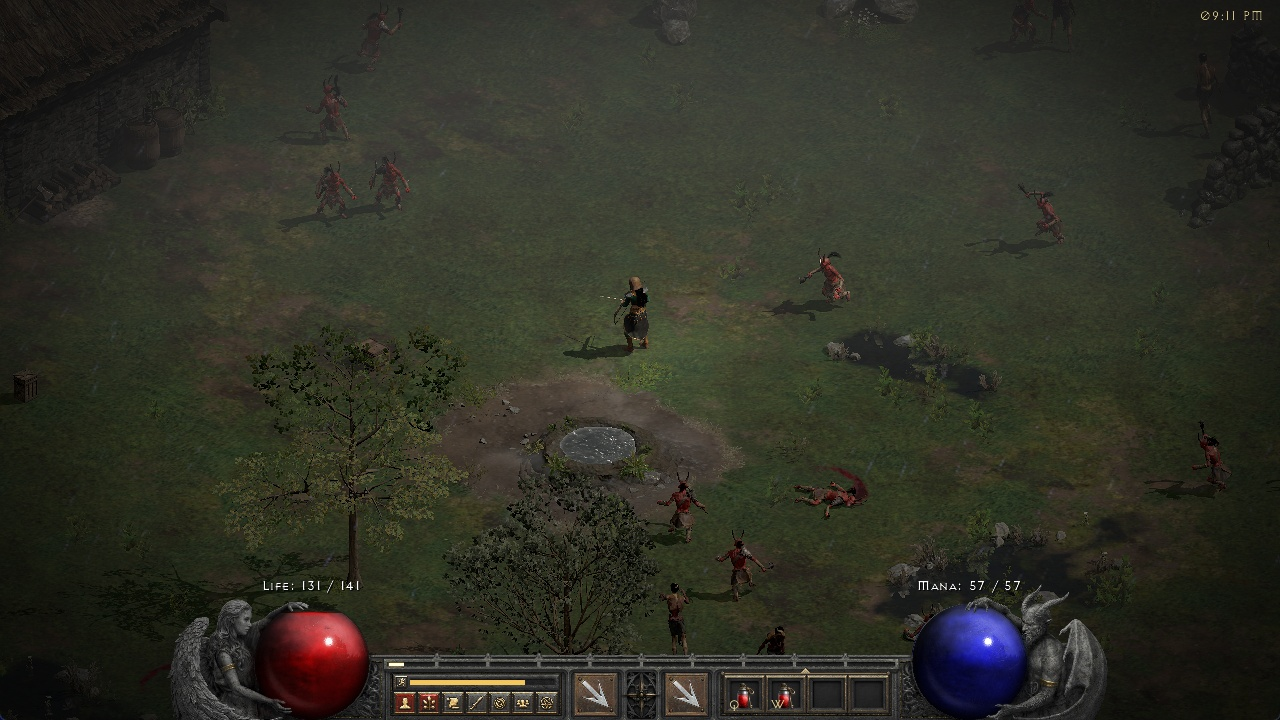fallen: (1180, 422, 1238, 501), (716, 529, 772, 605), (351, 4, 412, 72), (796, 248, 858, 310), (1015, 182, 1069, 248), (306, 77, 357, 145), (362, 156, 421, 212), (659, 469, 701, 539), (308, 166, 359, 220), (1009, 1, 1047, 47)
